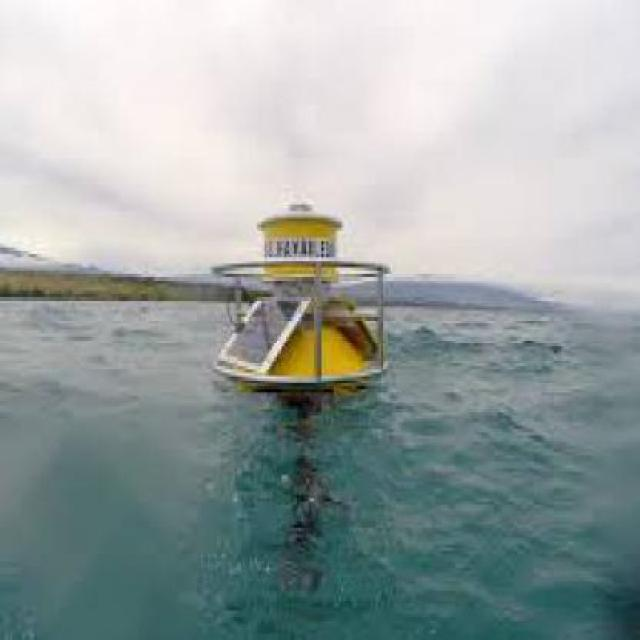buoy: (209, 189, 409, 410)
